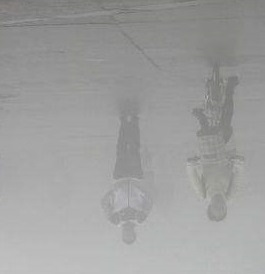person: (185, 73, 244, 223), (100, 114, 152, 246)
